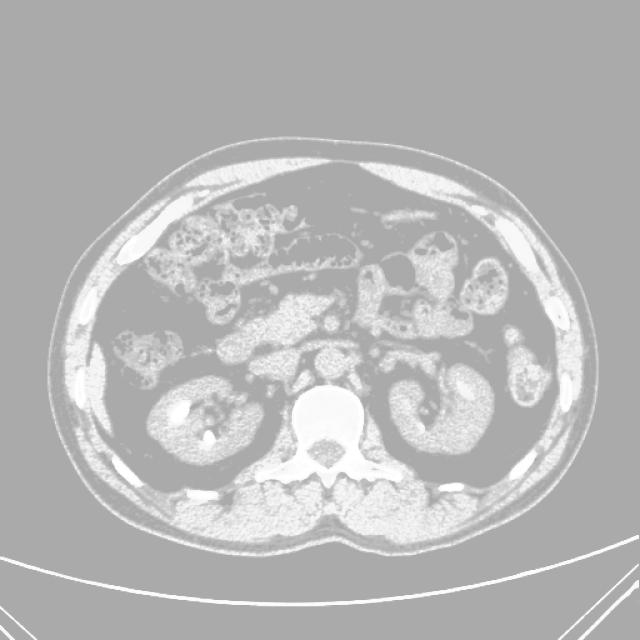STONE: (129, 248, 508, 485)
